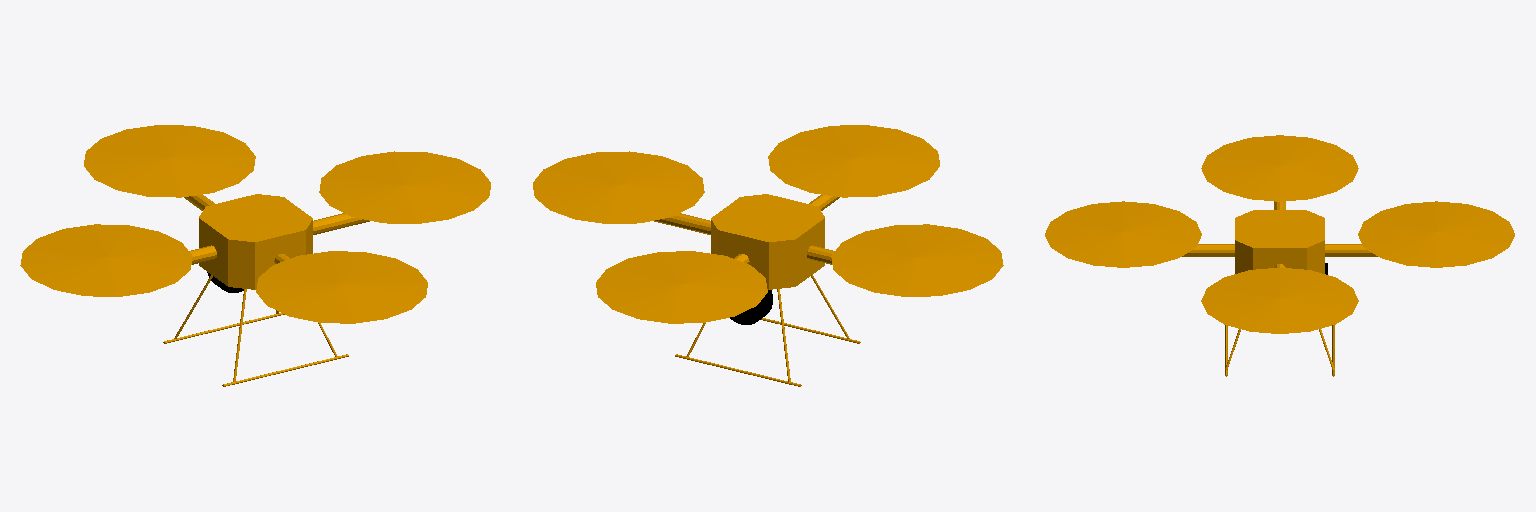
URDF robot description (quadrotor):
<?xml version="1.0" ?>

<!-- adapted from [author], [author], [author], "Trajectory Generation and Control for Precise Aggressive Maneuvers with Quadrotors" -->

<robot xmlns="http://drake.mit.edu"
 xmlns:xsi="http://www.w3.org/2001/XMLSchema-instance"
 xsi:schemaLocation="http://drake.mit.edu ../../../../pods/drake/doc/drakeURDF.xsd" name="quadrotor">
  <link name="base_link">
    <inertial>
      <mass value="0.5"/>
      <origin xyz="0 0 0"/>
      <inertia ixx="0.0023" ixy="0.0" ixz="0.0" iyy="0.0023" iyz="0.0" izz="0.004"/>
    </inertial>
    <visual>
      <origin rpy="0 0 0" xyz="0 0 0"/>
      <geometry>
        <mesh filename="quadrotor_base.obj" scale=".1 .1 .1"/>
      </geometry>
    </visual>
    <collision>
      <origin rpy="0 0 0" xyz="0 0 0"/>
      <geometry>
        <mesh filename="quadrotor_base.obj" scale=".1 .1 .1"/>
      </geometry>
    </collision>



  </link>


  <link name="eyes">
  <visual>
  <origin xyz="0 0 0" rpy="0 1.5708 0" />
  <geometry>
         <cylinder radius="0.03" length="0.02"/>
  </geometry>
  <material name="Black">
    <color rgba="0 0 0 1.0"/>
  </material>
  </visual>

    <inertial>
      <mass value="0"/>
      <origin xyz="0 0 0"/>
      <inertia ixx="0" ixy="0" ixz="0" iyy="0" iyz="0" izz="0"/>
    </inertial>

  </link>

  <joint name="eyes_joint" type="fixed">
    <!-- camera is located at front bar -->
    <origin rpy="1.57 0 -1.57" xyz="0 0.05 -0.05"/>
    <parent link="base_link"/>
    <child link="eyes"/>
  </joint>


  <frame link="base_link" name="body" rpy="0 0 0" xyz="0 0 0" />
  <force_element name="prop1">
    <propellor lower_limit="0" upper_limit="10" scale_factor_thrust="1.0" scale_factor_moment="0.0245">
      <parent link="base_link"/>
      <origin xyz=".1750 0 0"/>
      <axis xyz="0 0 1"/>
    </propellor>
  </force_element>

  <force_element name="prop2">
    <propellor lower_limit="0" upper_limit="10" scale_factor_thrust="1.0" scale_factor_moment="-0.0245">
      <parent link="base_link"/>
      <origin xyz="0 .1750 0 "/>
      <axis xyz="0 0 1"/>
    </propellor>
  </force_element>
  
  <force_element name="prop3">
    <propellor lower_limit="0" upper_limit="10" scale_factor_thrust="1.0" scale_factor_moment="0.0245">
      <parent link="base_link"/>
      <origin xyz="-.1750 0 0"/>
      <axis xyz="0 0 1"/>
    </propellor>
  </force_element>
  
  <force_element name="prop4">
    <propellor lower_limit="0" upper_limit="10" scale_factor_thrust="1.0" scale_factor_moment="-0.0245">
      <parent link="base_link"/>
      <origin xyz="0 -.1750 0"/>
      <axis xyz="0 0 1"/>
    </propellor>
  </force_element>
  
</robot>

--- What the picture shows (computed from the rendered views, not written in the file) ---
The picture shows the robot from 3 angles, left to right: view 1: azimuth 30°, elevation 25°; view 2: azimuth 150°, elevation 25°; view 3: azimuth 270°, elevation 25°; orthographic projection.
Robot: quadrotor — 2 links, 1 joints (1 fixed); root link base_link; default pose: every joint at zero.
Visible links, largest first — view 1: base_link; view 2: base_link, eyes; view 3: base_link.
Boxes of the visible links, left/top/right/bottom form: base_link: left=20, top=125, right=490, bottom=386; base_link: left=533, top=125, right=1003, bottom=386; eyes: left=730, top=290, right=772, bottom=324; base_link: left=1045, top=135, right=1514, bottom=376.
Bounding box of the posed robot: 0.5924 × 0.5924 × 0.1666 m (x, y, z).
Meshes: 1 distinct files referenced, 1 mesh visuals loaded (1 OBJ).
